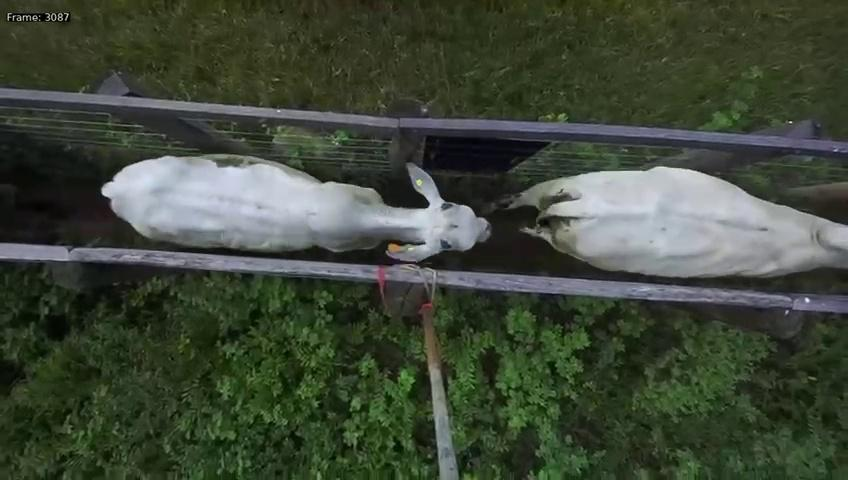cattle: (96, 136, 496, 259)
